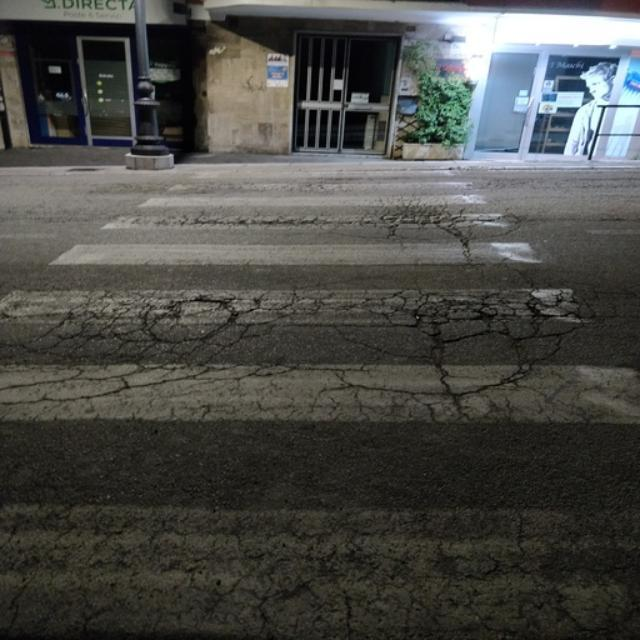sidewalk: (0, 160, 640, 640)
